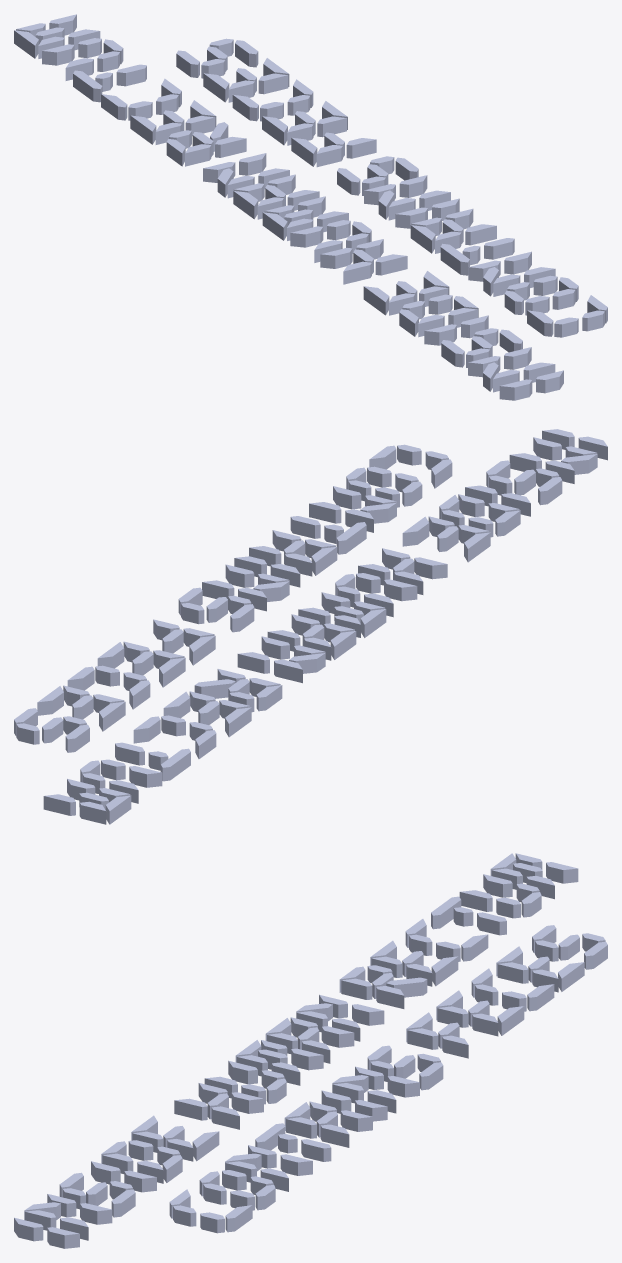
Rendered from INSIDE HUMAN RECTUM CONTAINS FECES.FBX.
The picture shows the model from 3 angles, top to bottom: view 1: azimuth 30°, elevation 25°; view 2: azimuth 150°, elevation 25°; view 3: azimuth 330°, elevation 25°; orthographic projection. The views are drawn at different scales.
Visible parts, largest first — view 1: Boss-Extrude1[99], Boss-Extrude1[70], Boss-Extrude1[34], Boss-Extrude1[2], Boss-Extrude1[74], Boss-Extrude1[26], Boss-Extrude1[29], Boss-Extrude1[101], Boss-Extrude1[68], Boss-Extrude1[97], Boss-Extrude1[54], Boss-Extrude1[14] (+7 smaller); view 2: Boss-Extrude1[99], Boss-Extrude1[70], Boss-Extrude1[75], Boss-Extrude1[35], Boss-Extrude1[27], Boss-Extrude1[50], Boss-Extrude1[79], Boss-Extrude1[94], Boss-Extrude1[53], Boss-Extrude1[97], Boss-Extrude1[68], Boss-Extrude1[22] (+12 smaller); view 3: Boss-Extrude1[27], Boss-Extrude1[45], Boss-Extrude1[75], Boss-Extrude1[53], Boss-Extrude1[1], Boss-Extrude1[50], Boss-Extrude1[103], Boss-Extrude1[110], Boss-Extrude1[5], Boss-Extrude1[70], Boss-Extrude1[28], Boss-Extrude1[94] (+23 smaller).
Part boxes in pixels (<box>): Boss-Extrude1[99]: <box>440,243,469,275</box>; Boss-Extrude1[70]: <box>73,70,102,102</box>; Boss-Extrude1[34]: <box>290,226,323,247</box>; Boss-Extrude1[2]: <box>499,379,532,400</box>; Boss-Extrude1[74]: <box>42,44,74,65</box>; Boss-Extrude1[26]: <box>375,254,407,275</box>; Boss-Extrude1[29]: <box>320,248,352,268</box>; Boss-Extrude1[101]: <box>465,224,496,245</box>; Boss-Extrude1[68]: <box>116,64,146,86</box>; Boss-Extrude1[97]: <box>484,238,514,259</box>; Boss-Extrude1[54]: <box>215,136,246,157</box>; Boss-Extrude1[14]: <box>424,324,456,345</box>; Boss-Extrude1[99]: <box>336,522,366,554</box>; Boss-Extrude1[70]: <box>160,748,190,781</box>; Boss-Extrude1[75]: <box>129,766,162,787</box>; Boss-Extrude1[35]: <box>384,579,417,601</box>; Boss-Extrude1[27]: <box>414,557,447,579</box>; Boss-Extrude1[50]: <box>237,652,269,673</box>; Boss-Extrude1[79]: <box>43,794,75,815</box>; Boss-Extrude1[94]: <box>309,502,341,523</box>; Boss-Extrude1[53]: <box>194,679,235,698</box>; Boss-Extrude1[97]: <box>290,516,320,538</box>; Boss-Extrude1[68]: <box>115,742,144,765</box>; Boss-Extrude1[22]: <box>402,516,429,546</box>; Boss-Extrude1[27]: <box>174,1098,207,1120</box>; Boss-Extrude1[45]: <box>321,1026,354,1047</box>; Boss-Extrude1[75]: <box>459,890,492,911</box>; Boss-Extrude1[53]: <box>386,977,427,997</box>; Boss-Extrude1[1]: <box>47,1227,79,1248</box>; Boss-Extrude1[50]: <box>352,1004,384,1025</box>; Boss-Extrude1[103]: <box>340,1110,372,1131</box>; Boss-Extrude1[110]: <box>387,1076,419,1097</box>; Boss-Extrude1[5]: <box>80,1203,112,1224</box>; Boss-Extrude1[70]: <box>431,896,461,929</box>; Boss-Extrude1[28]: <box>231,1092,263,1113</box>; Boss-Extrude1[94]: <box>280,1154,312,1175</box>.
Size of the model in its own units: 253 by 19.69 by 1327.
